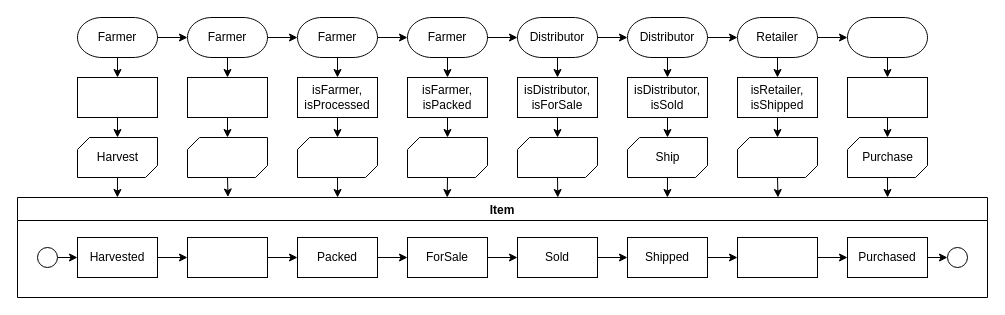
The diagram is 1005 pixels wide and 315 high, and some of its shapes have lost their labels. The centre of each missing label's shape, as x and y in pixels:
Buy: the point at 557,157
Consumer: the point at 887,37
isConsumer, isReceived: the point at 887,97
isFarmer: the point at 117,97
isFarmer, isHarvested: the point at 227,97
OnSale: the point at 447,157
Pack: the point at 337,157
Process: the point at 227,157
Processed: the point at 227,257
Receive: the point at 777,157
Received: the point at 777,257
